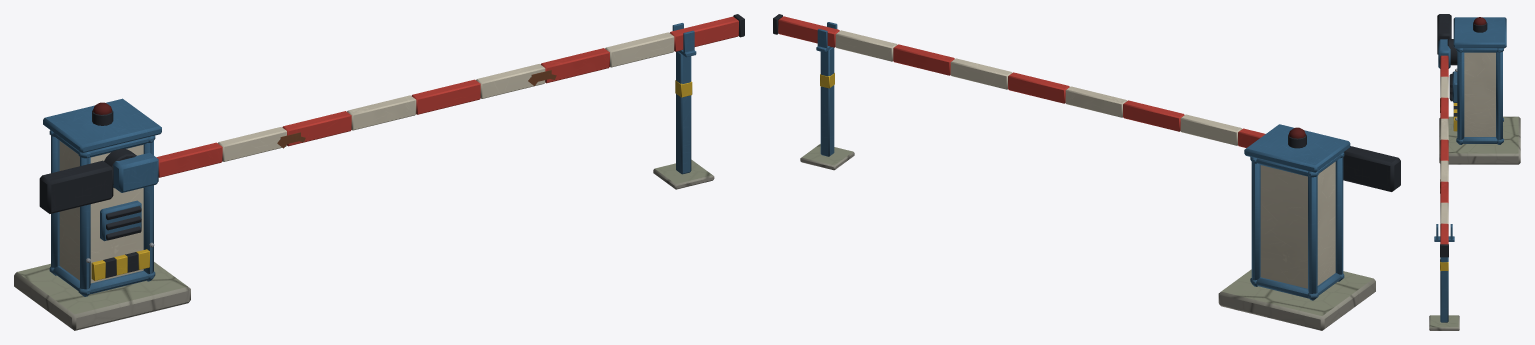
The model's file is road_barrier_arm.glb.
The picture shows the model from 3 angles, left to right: view 1: azimuth 30°, elevation 25°; view 2: azimuth 150°, elevation 25°; view 3: azimuth 270°, elevation 25°; orthographic projection. The views are drawn at different scales.
Parts seen in each view (by area): view 1: road_barrier_arm; view 2: road_barrier_arm; view 3: road_barrier_arm.
Part boxes in pixels (x1,y1,x2,y2): road_barrier_arm: (14,14,744,330); road_barrier_arm: (773,14,1400,330); road_barrier_arm: (1429,14,1520,330).
Bounding box in the file's own units: 5.29 × 1.39 × 0.9.
10 materials, 10 textured.
